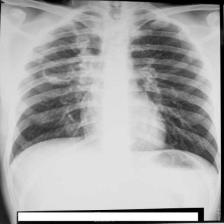tuberculosis: (0, 4, 221, 185)
